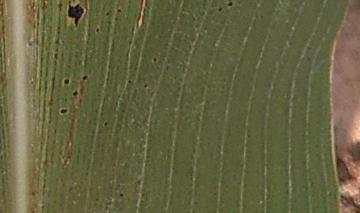tarspot: (66, 1, 84, 28), (58, 107, 70, 116), (62, 77, 71, 86), (71, 89, 79, 97), (151, 56, 159, 64), (57, 1, 63, 11), (81, 74, 88, 82), (94, 26, 101, 34), (142, 82, 149, 89), (26, 40, 33, 47), (118, 191, 124, 199), (102, 120, 108, 127), (104, 11, 110, 18), (116, 7, 122, 14), (227, 1, 233, 8), (217, 6, 223, 13), (126, 78, 132, 85)
